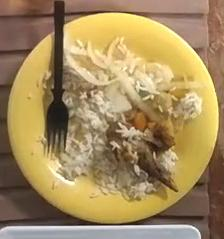onions: (63, 37, 190, 118)
rice: (59, 82, 157, 200)
